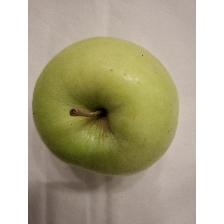Apfel: (32, 35, 180, 179)
